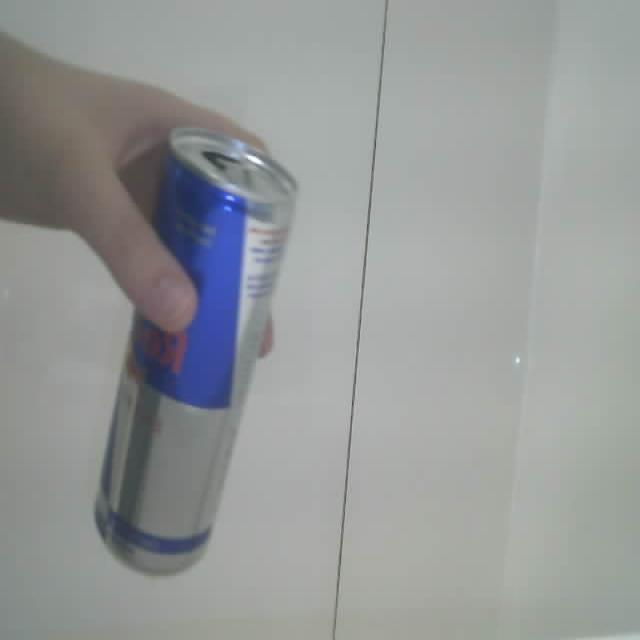redbull can: (95, 130, 296, 574)
